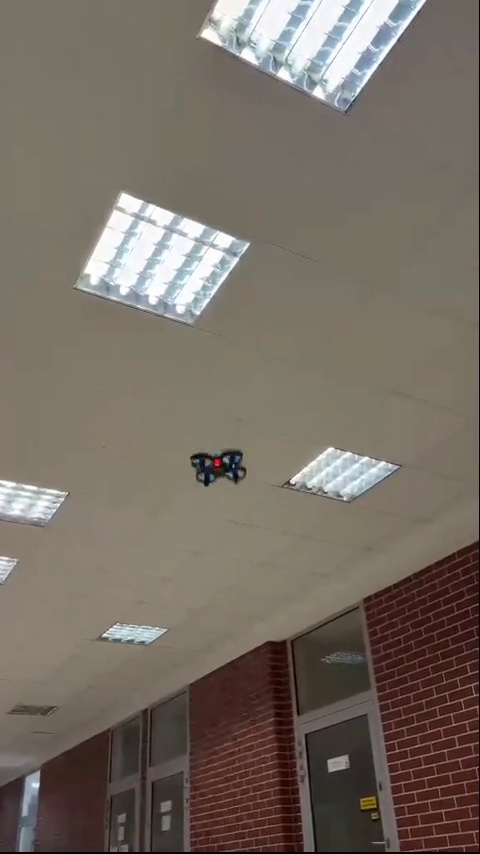drone: (189, 446, 242, 487)
